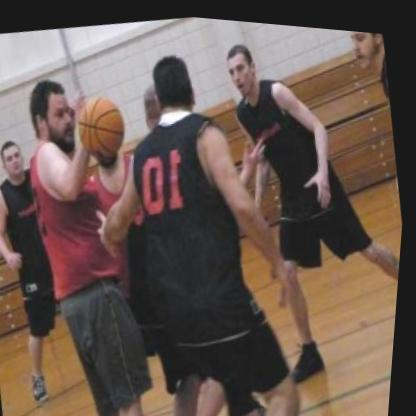basketball: (71, 86, 133, 165)
